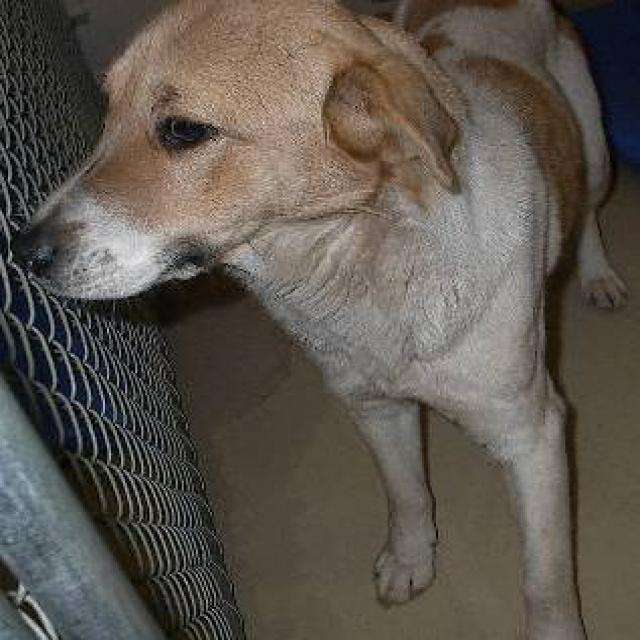dog: (10, 0, 630, 638)
